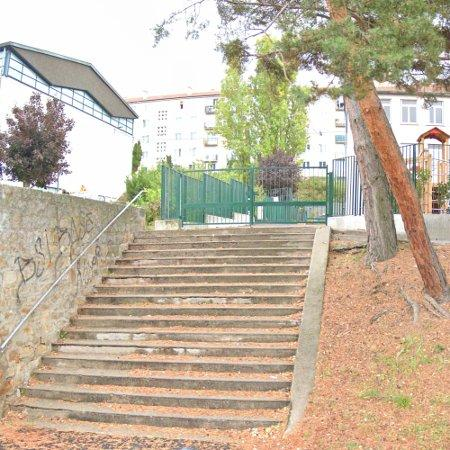stairs: (16, 227, 315, 431)
